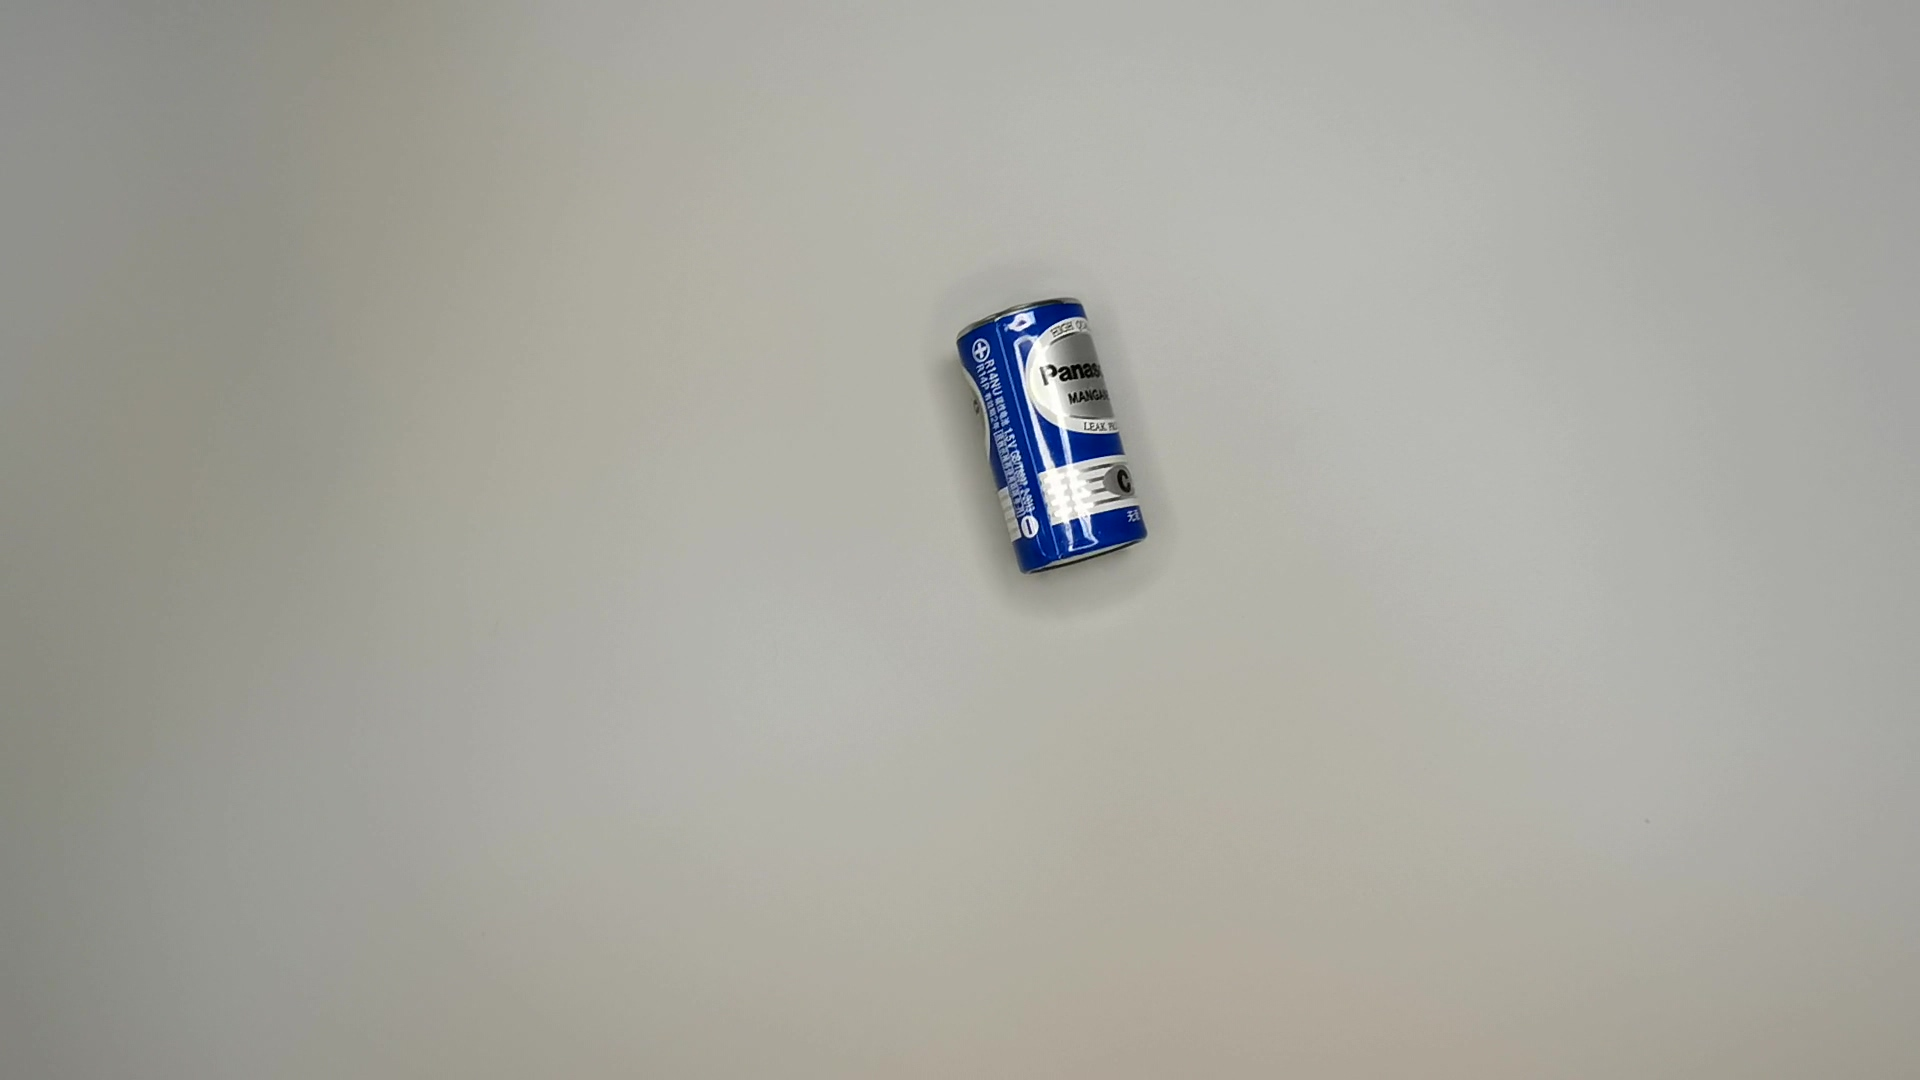battery: (952, 287, 1149, 579)
